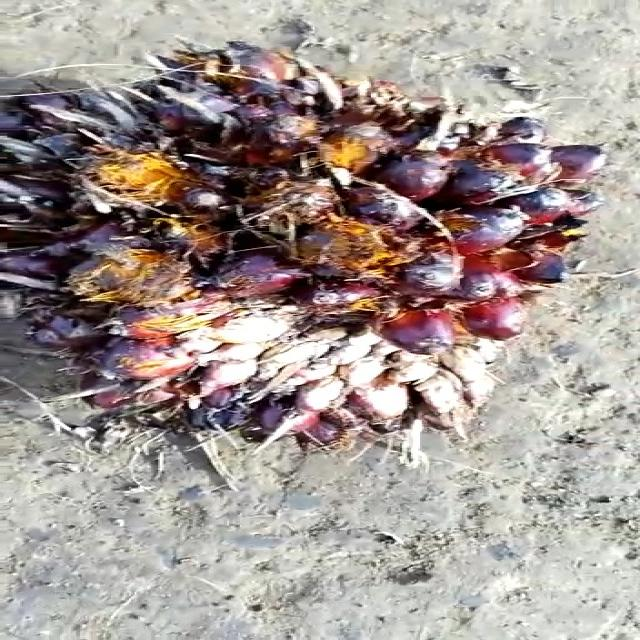palm oil: (0, 34, 613, 455)
